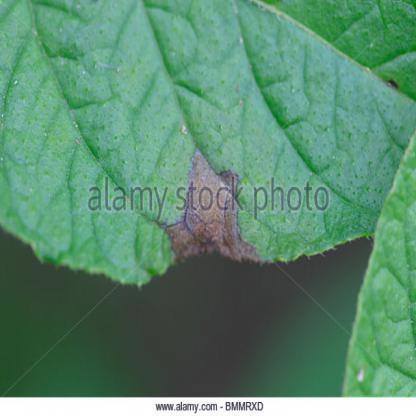potato leaf early blight: (1, 1, 413, 288)
